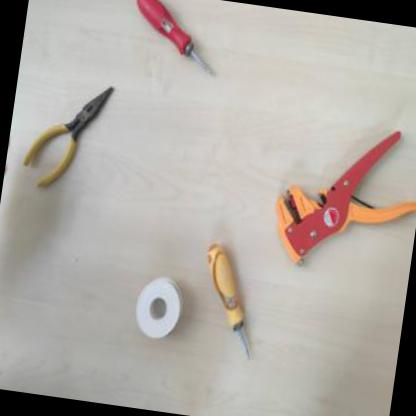Screwdriver: (190, 238, 272, 369), (123, 0, 229, 86)
